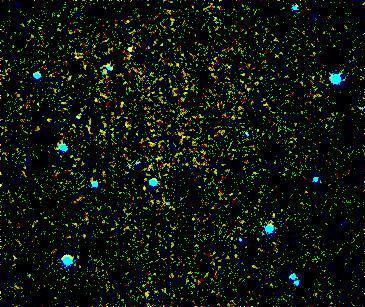star: (131, 172, 161, 202)
